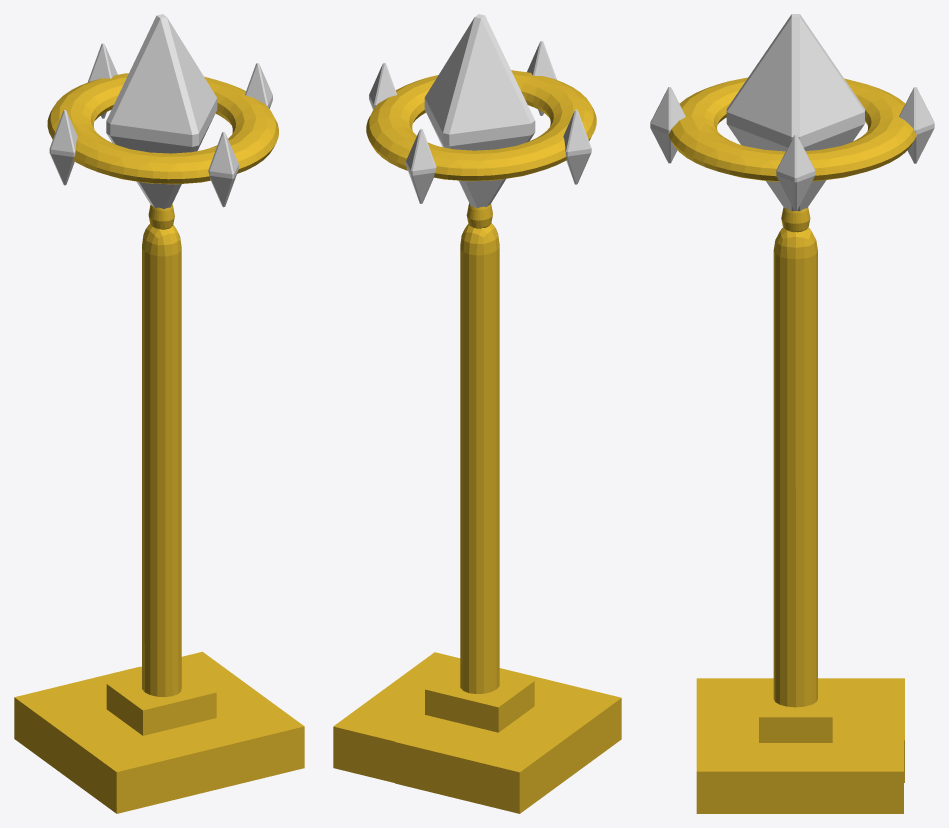
The picture shows the model from 3 angles, left to right: view 1: azimuth 30°, elevation 25°; view 2: azimuth 150°, elevation 25°; view 3: azimuth 270°, elevation 25°; orthographic projection. The views are drawn at different scales.
Parts seen in each view (by area): view 1: Куб.008; view 2: Куб.008; view 3: Куб.008.
Part boxes in pixels (bbox=[...]): Куб.008: bbox=[14, 14, 304, 813]; Куб.008: bbox=[333, 14, 621, 813]; Куб.008: bbox=[650, 14, 934, 813].
Bounding box in the file's own units: 603 × 1914 × 656.
